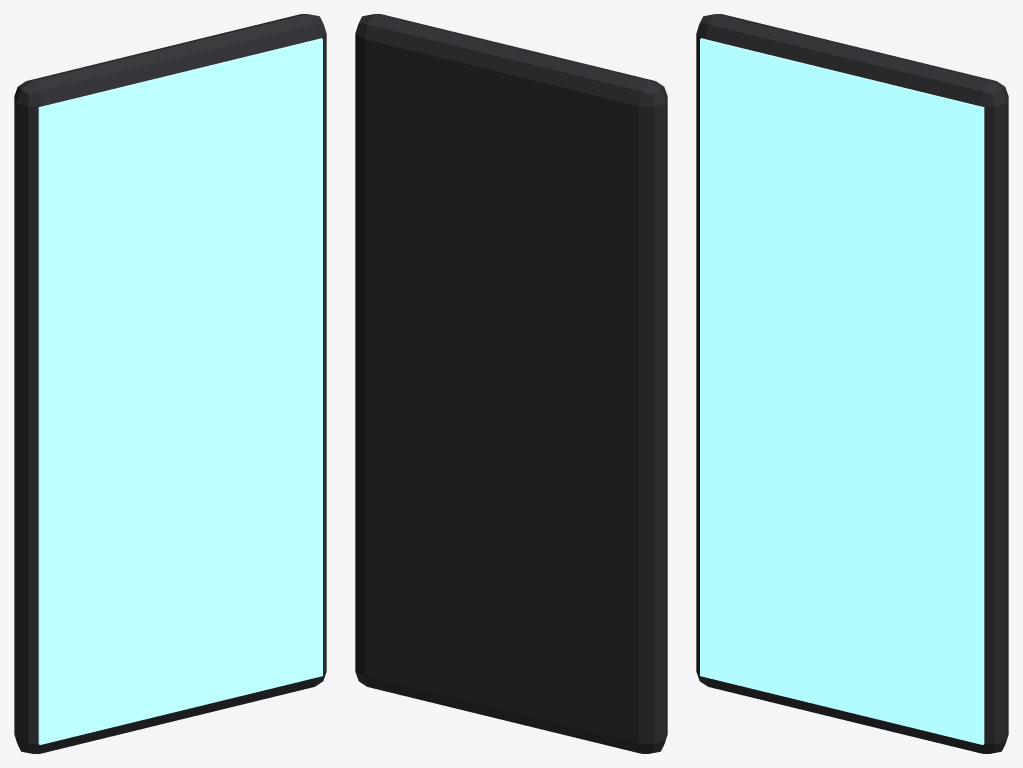
The model's file is phone_hand.glb.
3 views of the same model, side by side, from view 1: azimuth 30°, elevation 25°; view 2: azimuth 150°, elevation 25°; view 3: azimuth 330°, elevation 25° (orthographic).
Parts seen in each view (by area): view 1: Screen, Body; view 2: Body; view 3: Screen, Body.
Boxes of the visible parts, x1,y1,x2,y2 form: Screen: [38, 38, 322, 744]; Body: [14, 14, 326, 753]; Body: [355, 14, 667, 753]; Screen: [700, 38, 984, 744]; Body: [696, 14, 1008, 753].
Bounding box in the file's own units: 0.072 × 0.15 × 0.00845.
